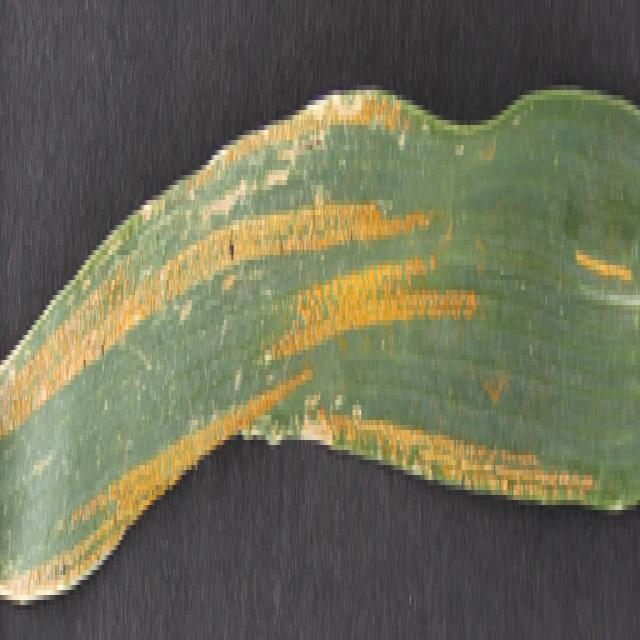leaf rust: (1, 115, 585, 610)
